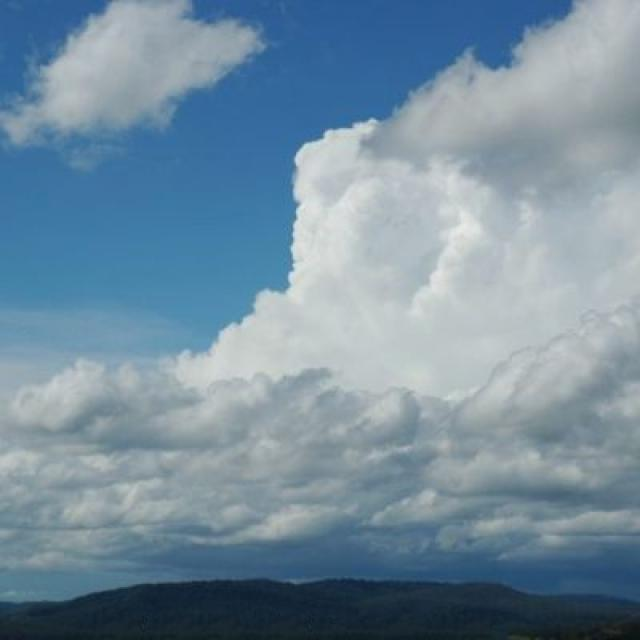Cb: (1, 30, 640, 497)
